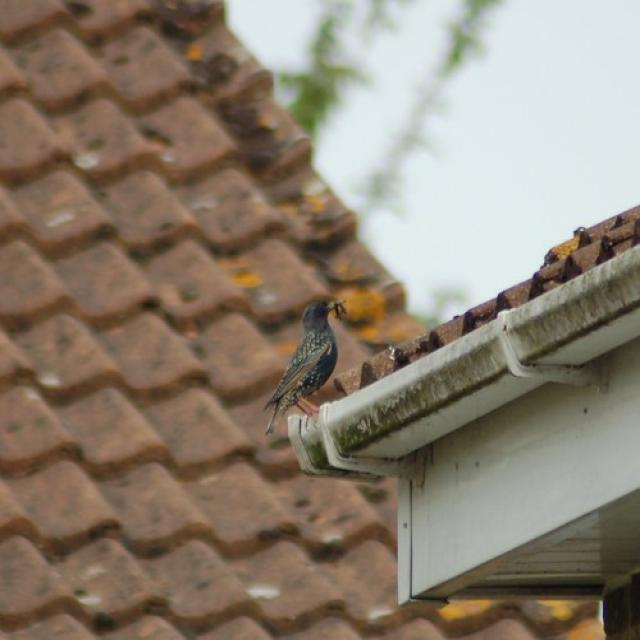bird: (262, 296, 349, 438)
